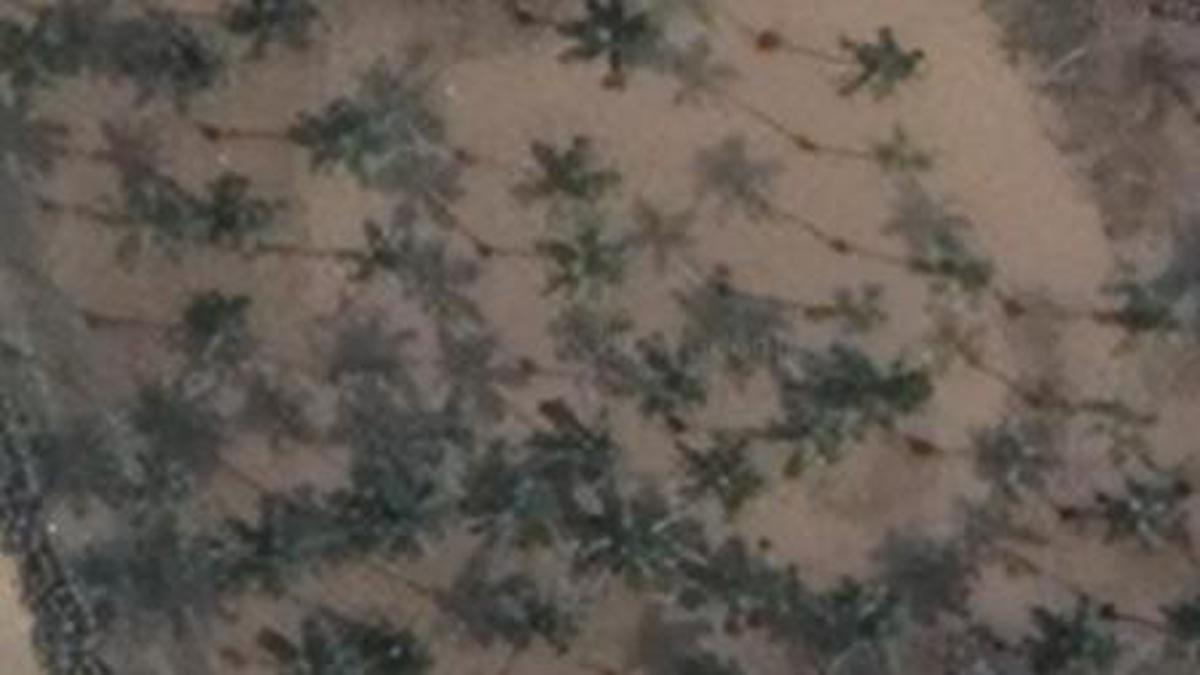coconut: (1084, 257, 1200, 366), (345, 444, 452, 554), (589, 492, 696, 600), (704, 530, 806, 640), (511, 120, 624, 216), (286, 83, 388, 182), (535, 391, 634, 490), (463, 455, 559, 557), (814, 575, 908, 675), (862, 350, 953, 450), (101, 171, 195, 267), (533, 225, 632, 316), (219, 506, 310, 602), (755, 380, 849, 471), (551, 0, 656, 80), (672, 428, 763, 519), (621, 332, 712, 423), (174, 281, 262, 375), (910, 219, 1004, 305), (324, 200, 412, 289), (136, 21, 222, 112), (1015, 594, 1111, 675), (187, 163, 275, 251), (1092, 476, 1178, 559), (835, 26, 924, 104), (495, 575, 578, 658), (865, 115, 942, 195), (811, 270, 889, 340)
